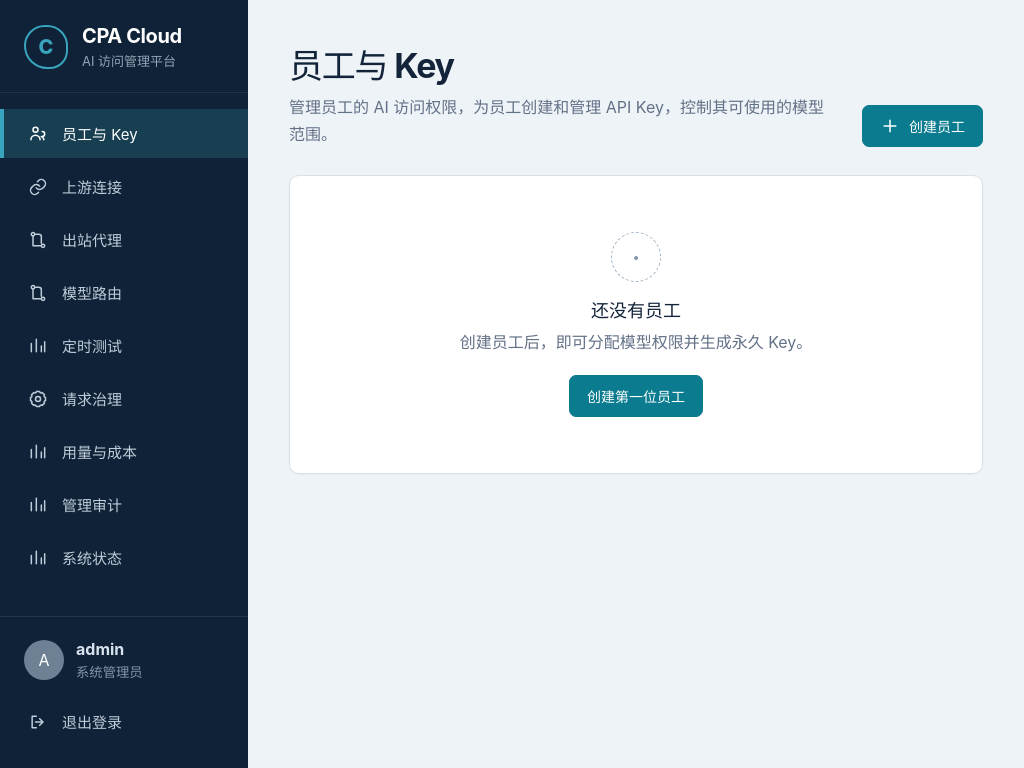
Scenario: audit capability negotiation › shows export only when its distinct status capability is true
This screenshot has width=1024, height=768.
Click the button "管理审计" at x=124, y=504, box [0,480,248,529]
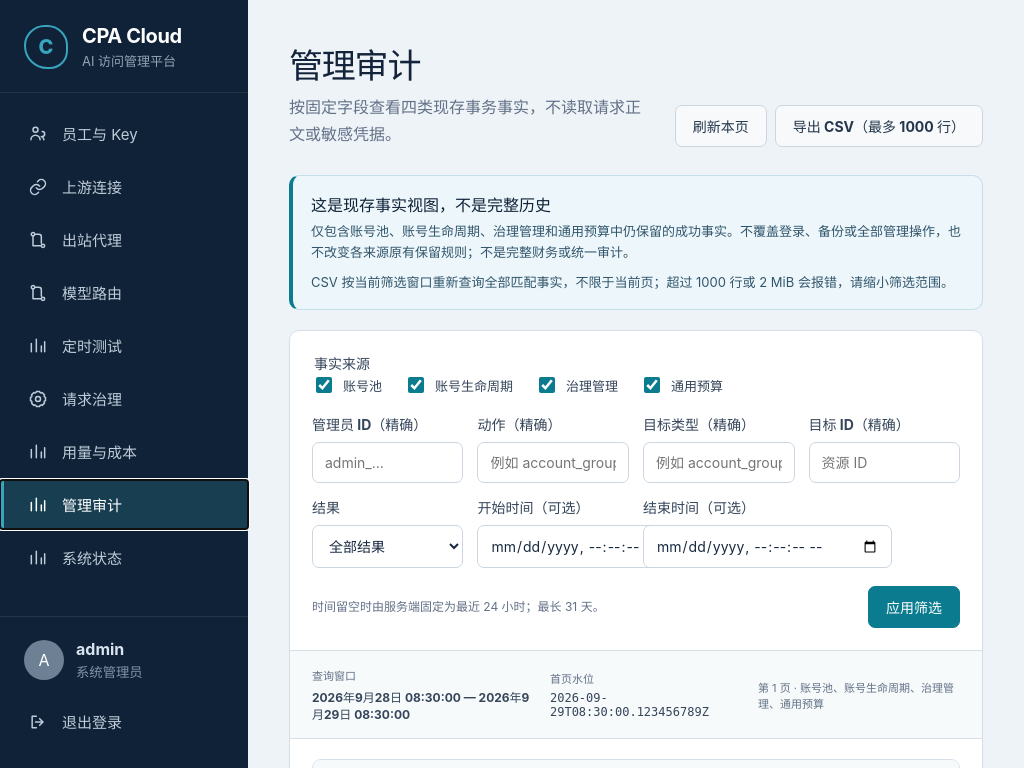
Now the button "导出 CSV（最多 1000 行）" is shown, box [775,105,983,147]
